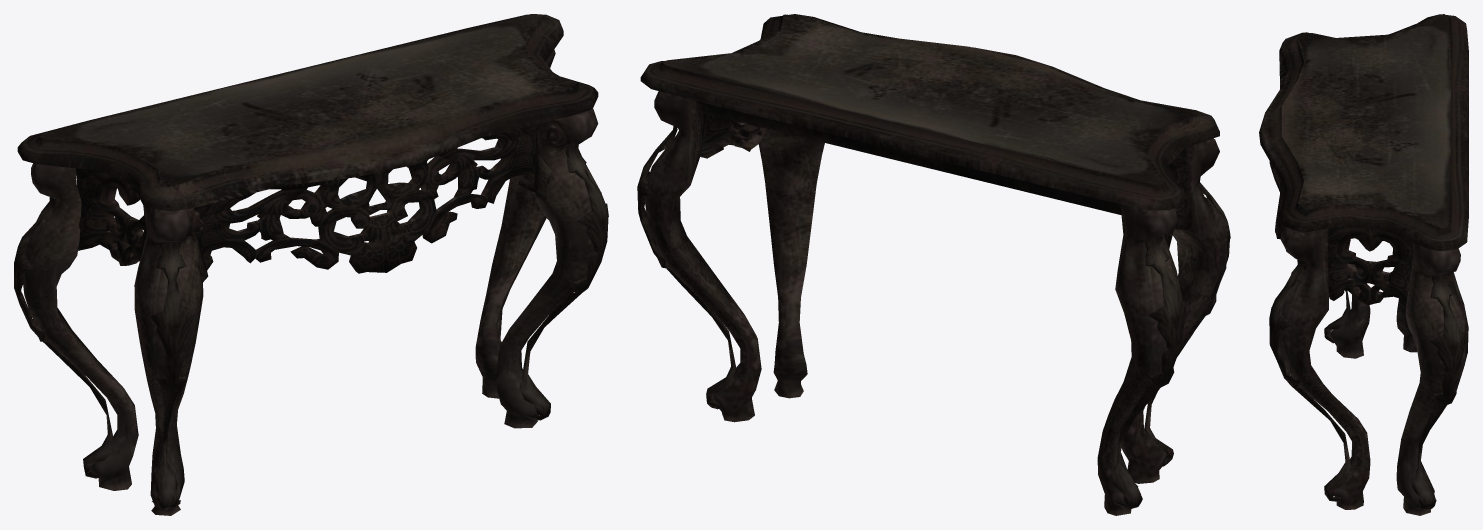
Rendered from ClassicConsole_01.glb.
3 views of the same model, side by side, from view 1: azimuth 30°, elevation 25°; view 2: azimuth 150°, elevation 25°; view 3: azimuth 270°, elevation 25° (orthographic). The views are drawn at different scales.
Parts seen in each view (by area): view 1: ClassicConsole_01; view 2: ClassicConsole_01; view 3: ClassicConsole_01.
Boxes of the visible parts, x1=… form: ClassicConsole_01: x1=14, y1=14, x2=608, y2=515; ClassicConsole_01: x1=637, y1=14, x2=1230, y2=515; ClassicConsole_01: x1=1259, y1=14, x2=1468, y2=515.
Size of the model in its own units: 1.54 by 0.9491 by 0.5877.
Materials: 1 (1 with a texture image).
